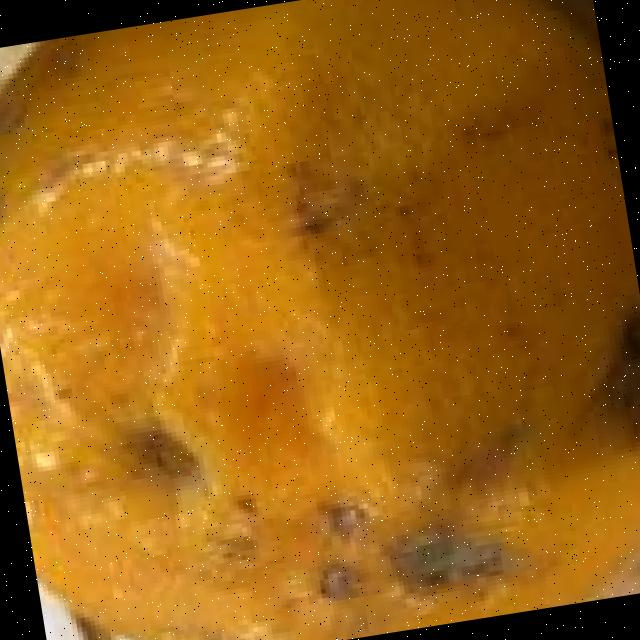Bad_Orange-0-1 day: (0, 0, 640, 640)
